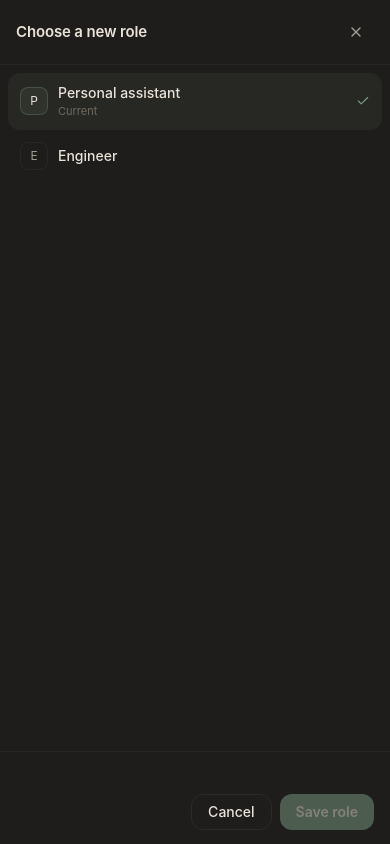
AssistantChangeRoleModal › rejects a mismatched PUT assistantId and refetches canonical state without closing
Click the option "E Engineer".
click(88, 155)  # box [8,132,382,180]
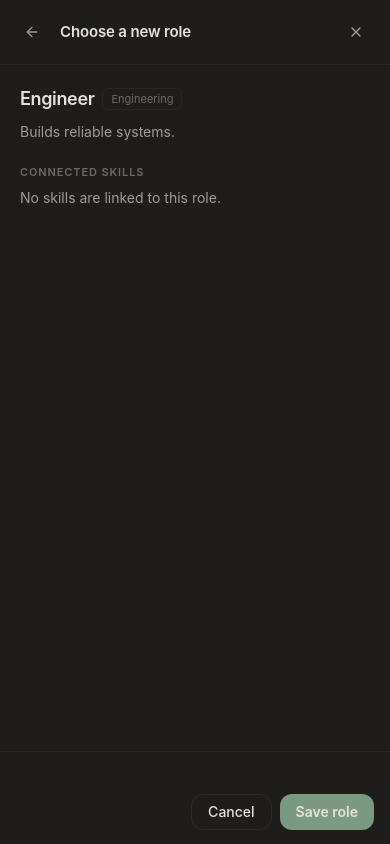
Click the button "Save role".
click(327, 812)  # box [280,794,374,830]
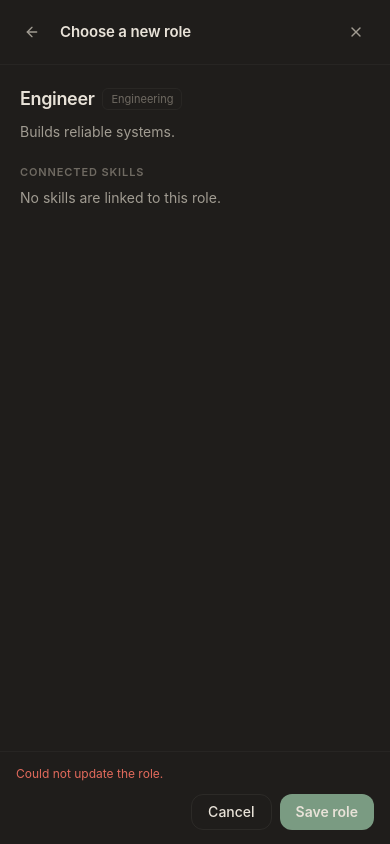
Expected: the text "Builds reliable systems." is shown, [20,123,175,140]
Expected: the text "Could not update the role." is shown, [16,766,163,781]
